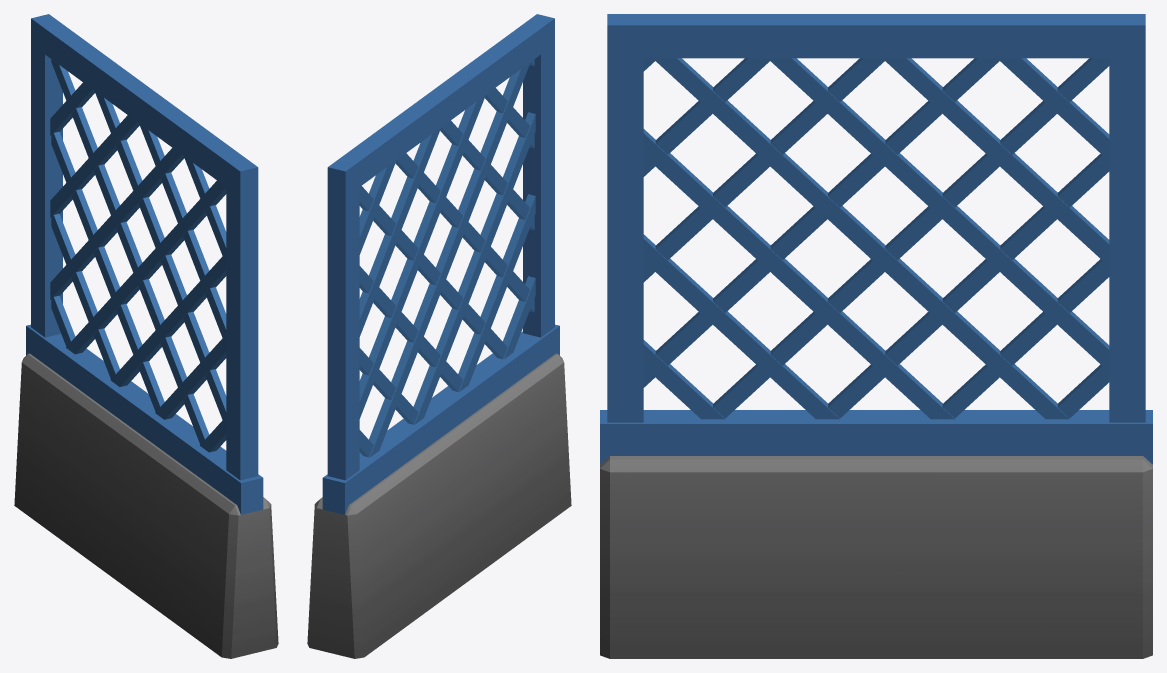
Rendered from Fence_1_D_7.fbx.
3 renders of one model, left to right at view 1: azimuth 30°, elevation 25°; view 2: azimuth 150°, elevation 25°; view 3: azimuth 270°, elevation 25°, orthographic. The views are drawn at different scales.
Visible parts, largest first — view 1: Fence_1_D_7; view 2: Fence_1_D_7; view 3: Fence_1_D_7.
Boxes of the visible parts, x1=… form: Fence_1_D_7: x1=14, y1=14, x2=278, y2=658; Fence_1_D_7: x1=307, y1=14, x2=571, y2=658; Fence_1_D_7: x1=600, y1=14, x2=1152, y2=658.
Bounding box in the file's own units: 30.52 × 248 × 200.
